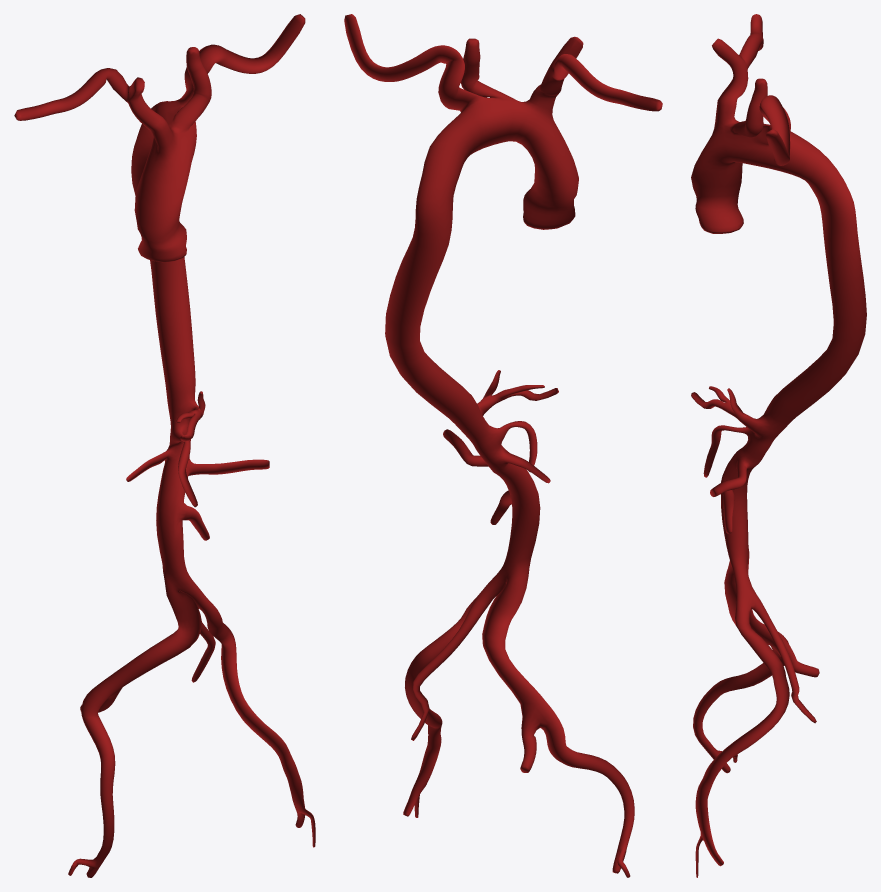
File: aorta.glb
3 renders of one model, left to right at view 1: azimuth 30°, elevation 25°; view 2: azimuth 150°, elevation 25°; view 3: azimuth 270°, elevation 25°, orthographic. The views are drawn at different scales.
Parts seen in each view (by area): view 1: a60m; view 2: a60m; view 3: a60m.
Boxes of the visible parts, x1,y1,x2,y2 form: a60m: (14, 14, 315, 877); a60m: (344, 14, 662, 877); a60m: (691, 14, 866, 877).
Bounding box in the file's own units: 1.1 × 2.84 × 0.5953.
